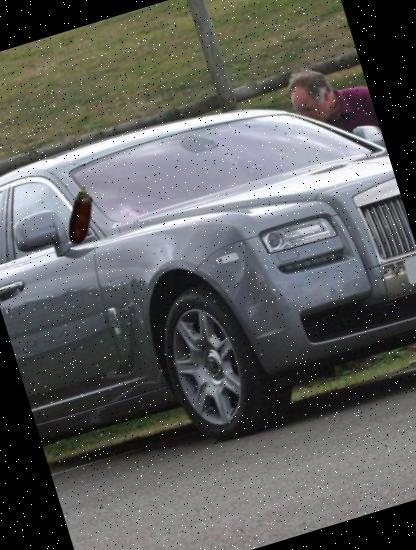Eggplant: (44, 177, 119, 253)
